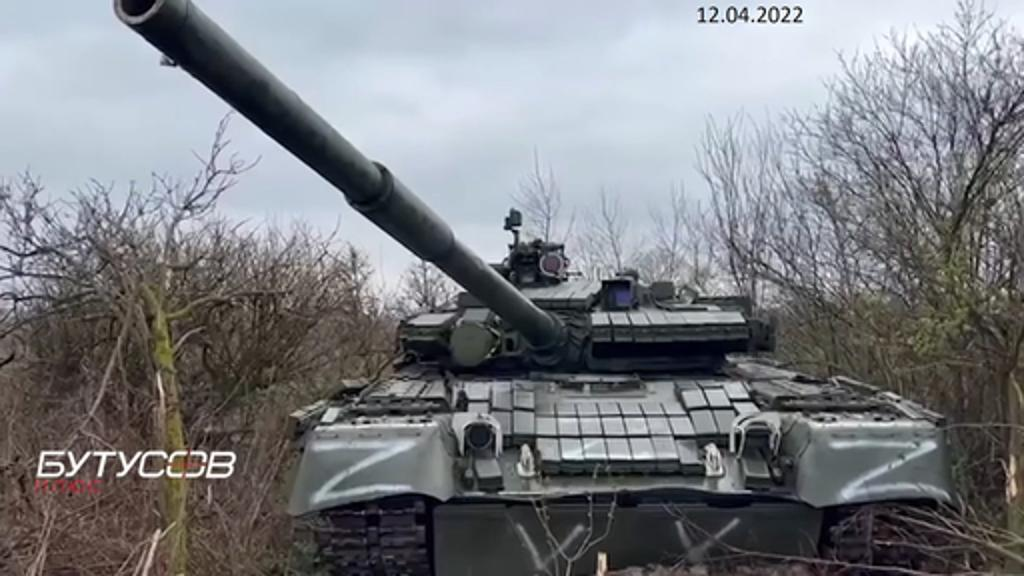TANK: (112, 0, 948, 574)
